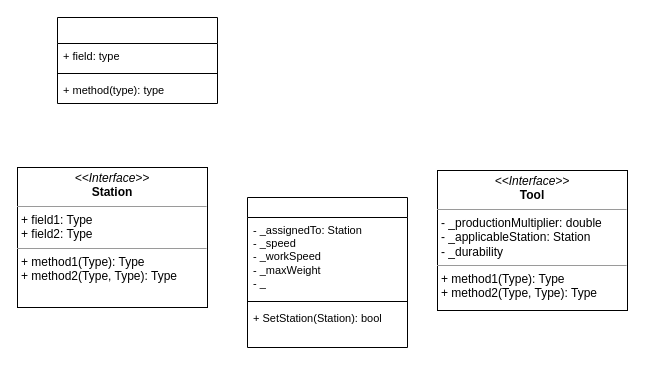
The diagram is 645 pixels wide and 368 high, and some of its shapes have lost their labels. Each missing label, with the box of its shape:
Gubbe: (246, 196, 408, 348)
LoggingStation: (56, 16, 218, 104)
